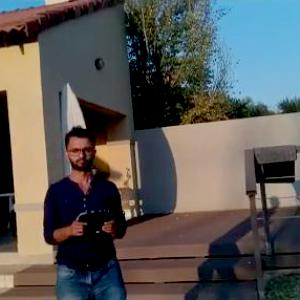follow: (39, 120, 137, 299)
